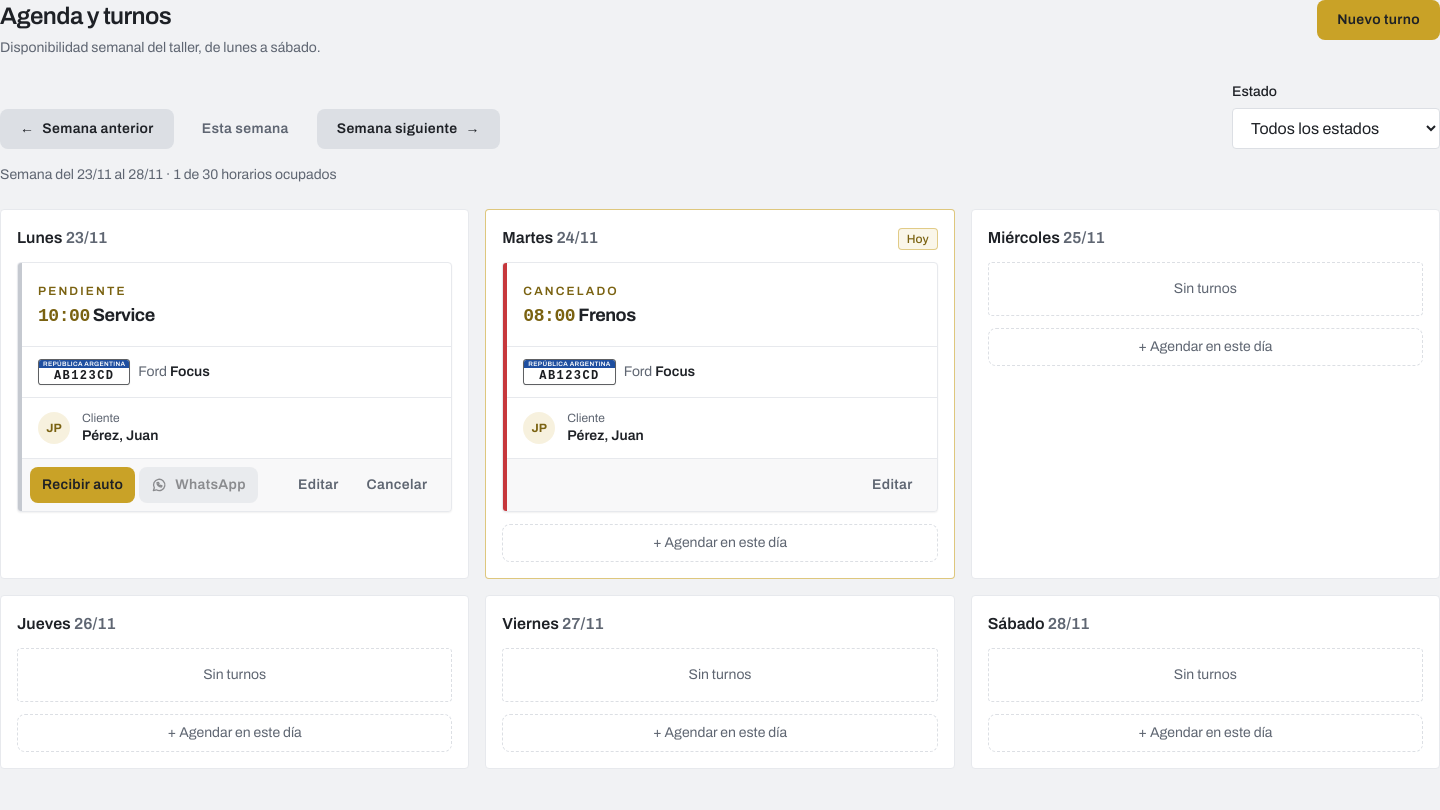
Test: Turnos › con turnos en la semana › Editar abre el formulario del turno
Expected: the text "Service" is shown, [93,305,155,325]
Click the button "Editar" below "Pendiente". click: (318, 485)
box: [286,467,351,503]
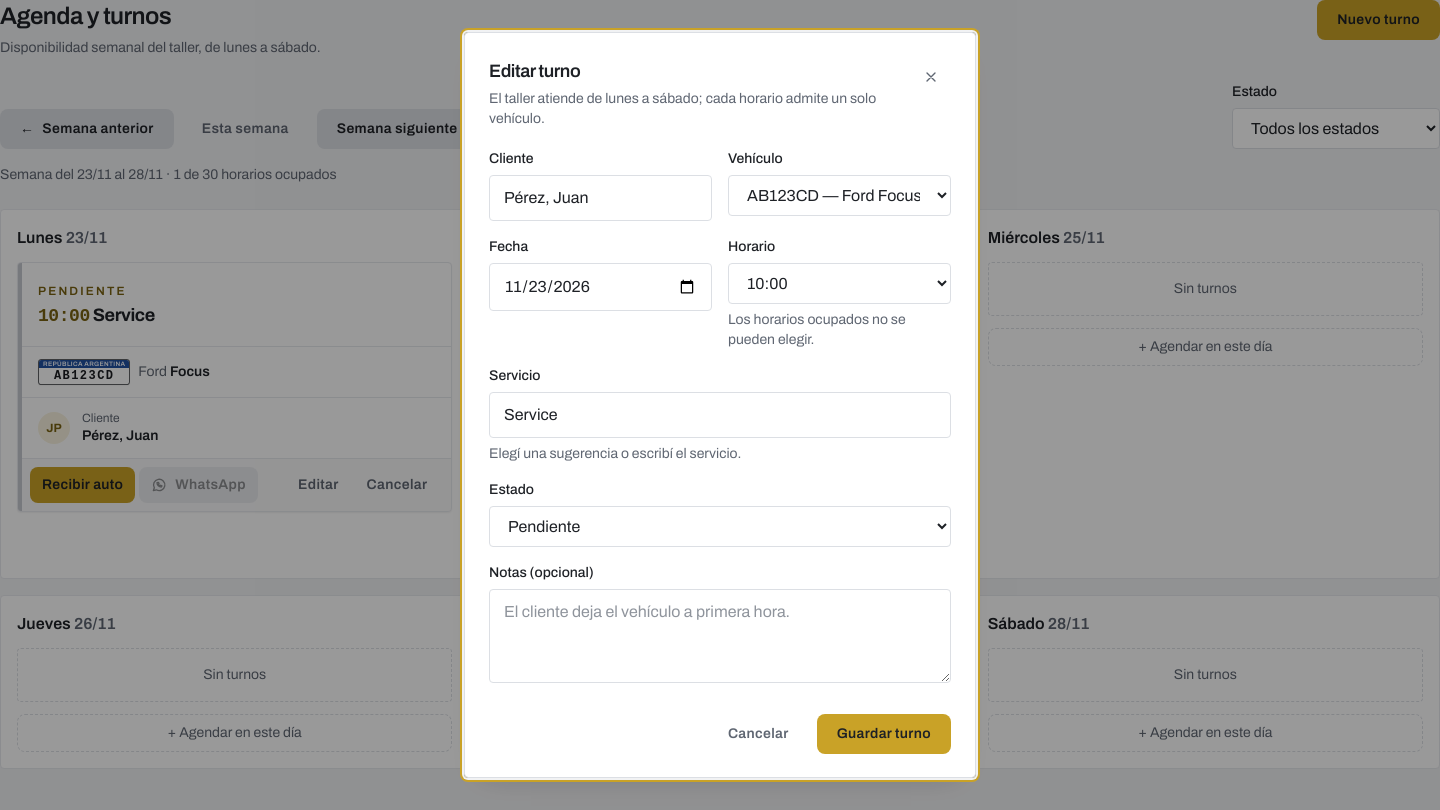
Result: the heading "Editar turno" is shown at [489,61,580,81]
